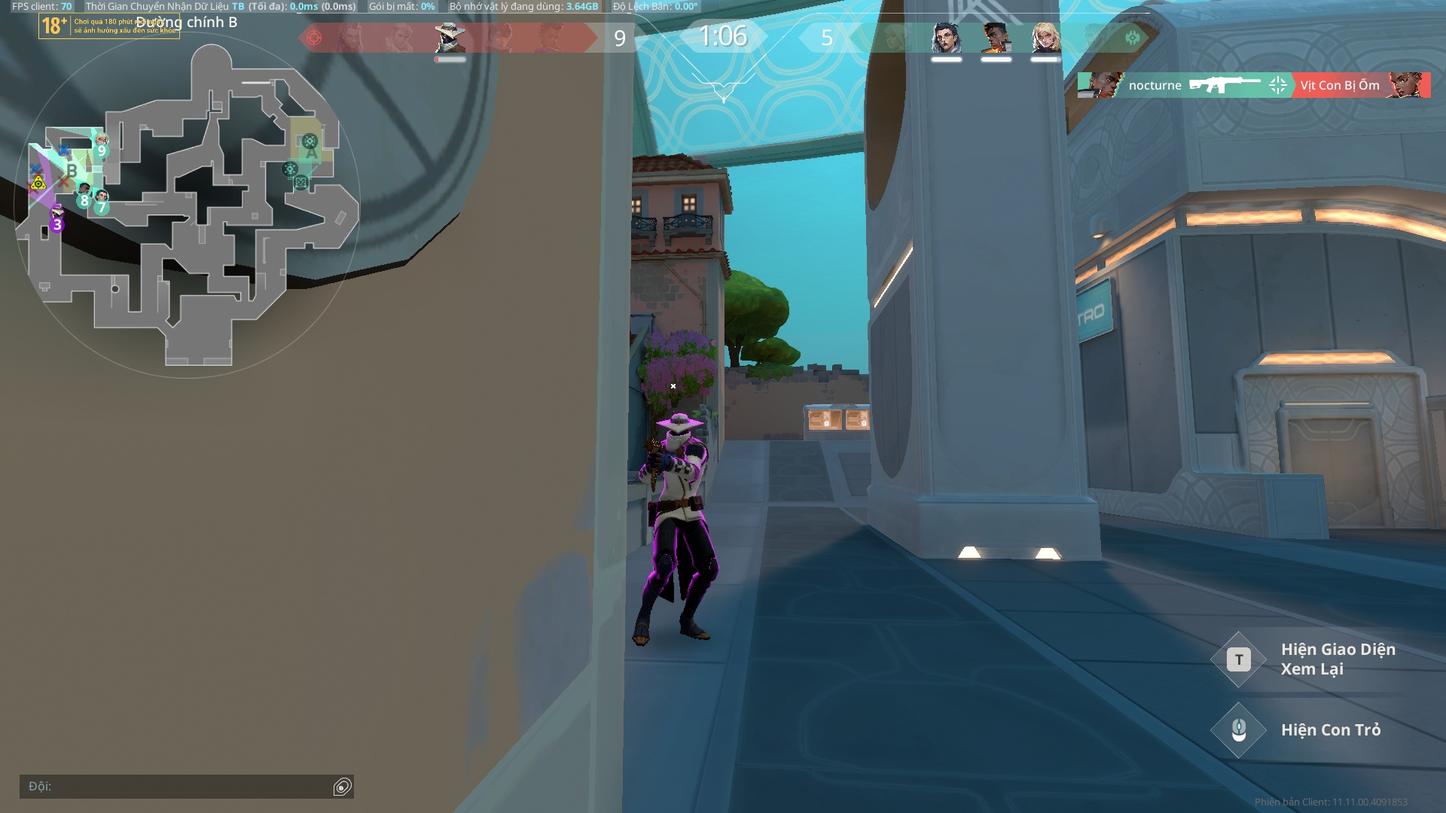body: (655, 434, 708, 497)
head: (669, 413, 691, 439)
